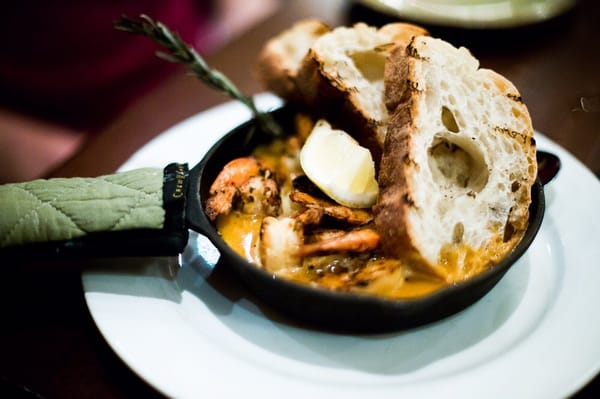sushi: (181, 18, 585, 336)
